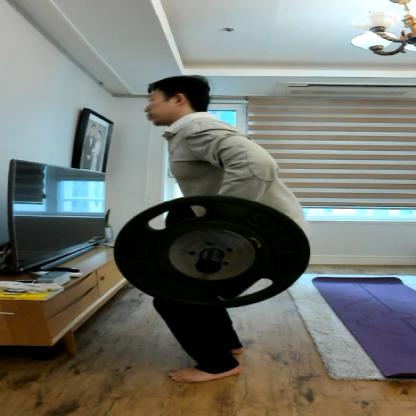Barbell: (105, 192, 326, 312)
